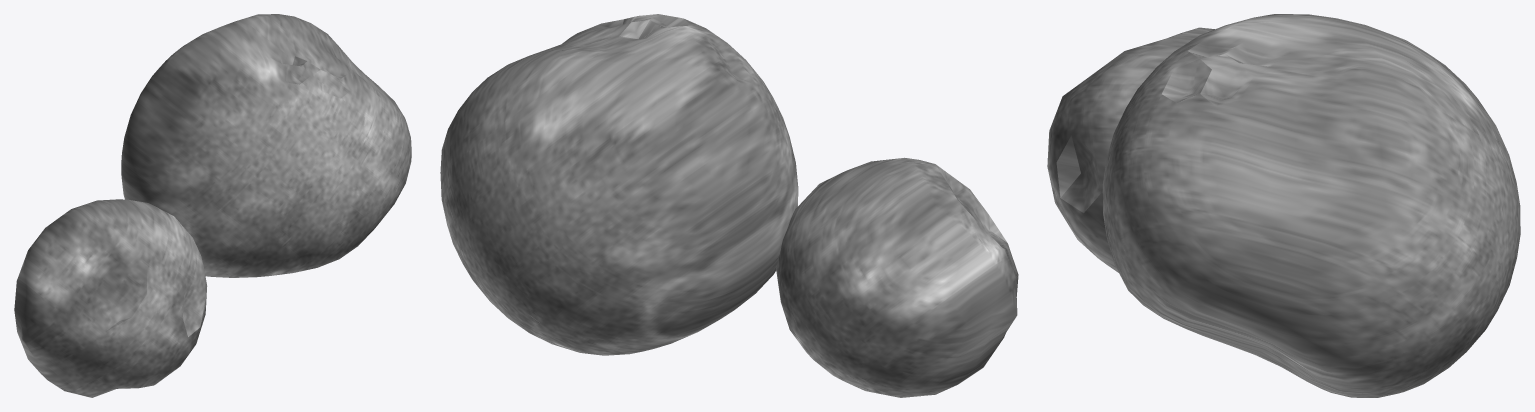
The model's file is ultima thule.dae.
3 renders of one model, left to right at view 1: azimuth 30°, elevation 25°; view 2: azimuth 150°, elevation 25°; view 3: azimuth 270°, elevation 25°, orthographic. The views are drawn at different scales.
Visible parts, largest first — view 1: obj_001; view 2: obj_001; view 3: obj_001.
Part boxes in pixels (<box>): obj_001: <box>14,14,411,397</box>; obj_001: <box>440,14,1018,397</box>; obj_001: <box>1047,14,1520,397</box>.
Size of the model in its own units: 0.5087 by 0.3549 by 0.3146.
Materials: 1 (1 with a texture image).
